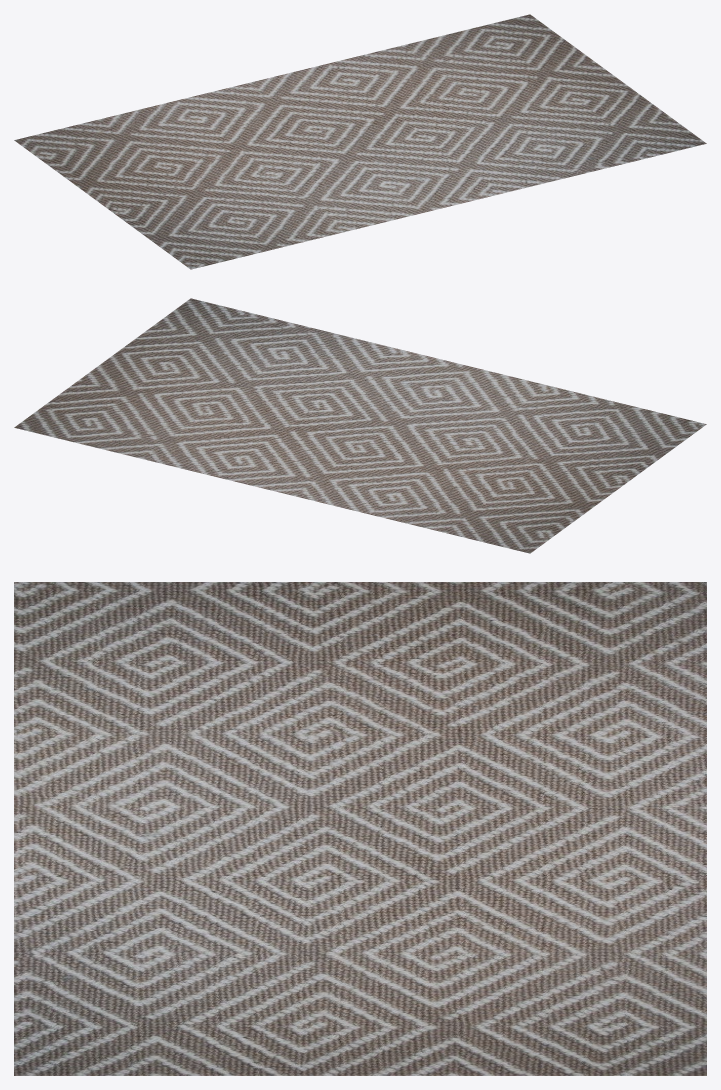
Rendered from carpet3.fbx.
3 renders of one model, top to bottom at view 1: azimuth 30°, elevation 25°; view 2: azimuth 150°, elevation 25°; view 3: azimuth 270°, elevation 25°, orthographic. The views are drawn at different scales.
Parts seen in each view (by area): view 1: pPlane1; view 2: pPlane1; view 3: pPlane1.
Boxes of the visible parts, x1=… form: pPlane1: x1=14, y1=14, x2=706, y2=269; pPlane1: x1=14, y1=298, x2=706, y2=553; pPlane1: x1=14, y1=582, x2=706, y2=1075.
Size of the model in its own units: 2.67 by 2.22e-16 by 1.58.
